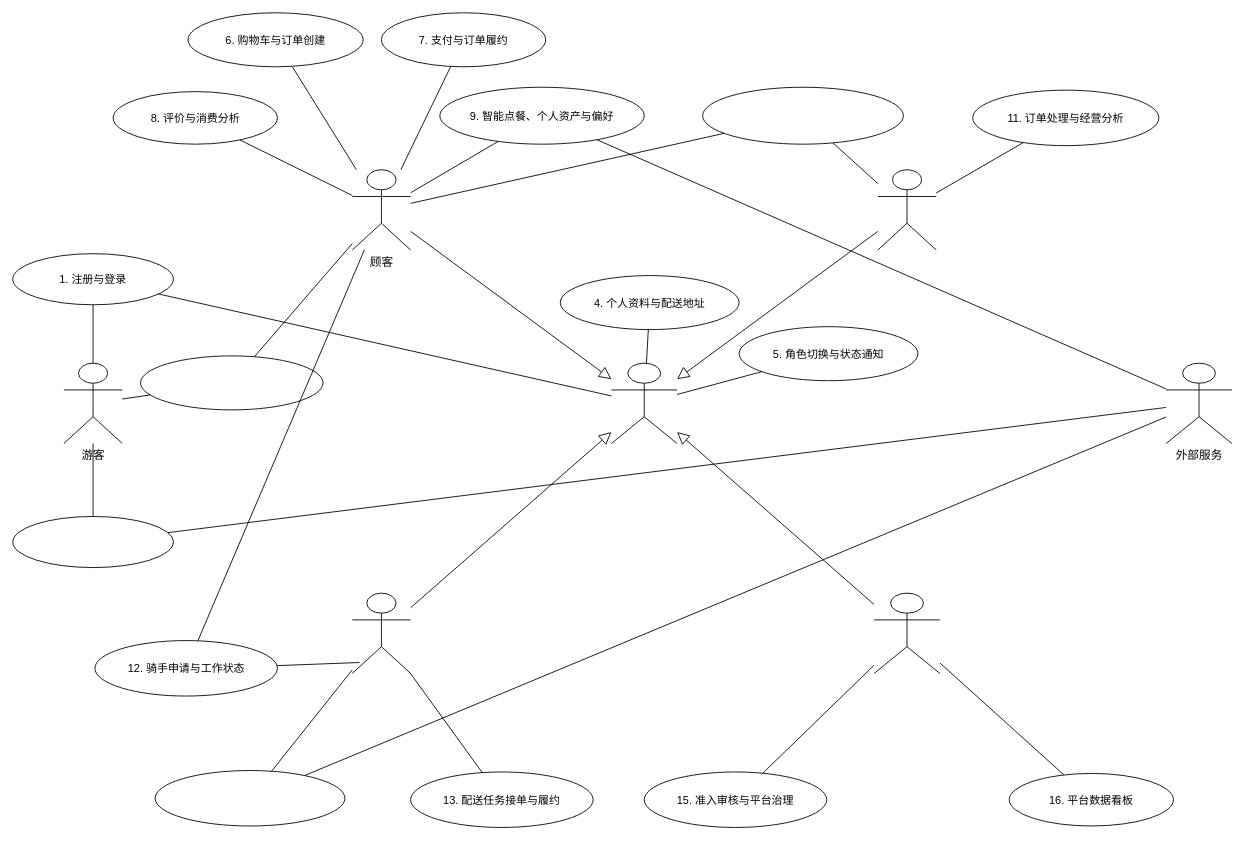
Some shapes in this 1245 by 841 pixel diagram are drawn without their labels. Each missing label, with the centre of its shape:
"10. 商家申请与店铺商品管理" goes at (x=802, y=115).
"14. 配送异常、历史与导航" goes at (x=249, y=798).
"2. 浏览与搜索店铺商品" goes at (x=231, y=382).
"3. 公开规则问答" goes at (x=92, y=542).
"商家" goes at (x=906, y=209).
"已登录用户" goes at (x=644, y=403).
"管理员" goes at (x=906, y=632).
"骑手" goes at (x=381, y=632).
